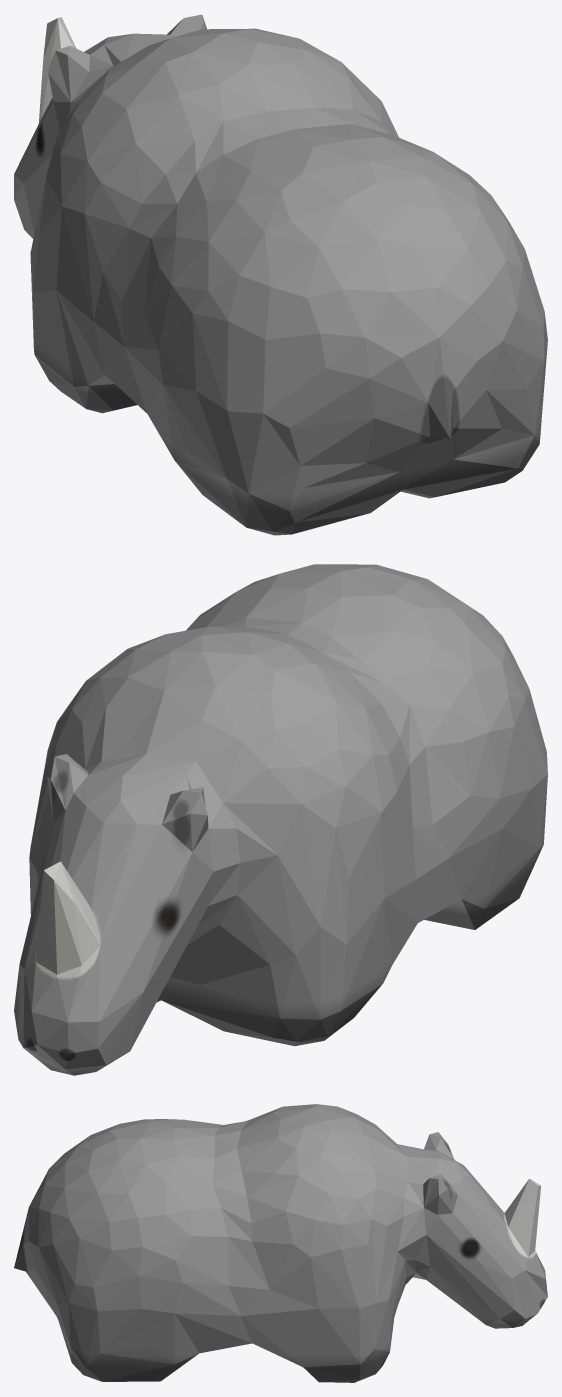
File: animal_rhino_blob.obj
3 views of the same model, one above another, from view 1: azimuth 30°, elevation 25°; view 2: azimuth 150°, elevation 25°; view 3: azimuth 270°, elevation 25° (orthographic). The views are drawn at different scales.
Visible parts, largest first — view 1: animal_rhino_blob; view 2: animal_rhino_blob; view 3: animal_rhino_blob.
Part boxes in pixels (x1=…): animal_rhino_blob: x1=14, y1=14, x2=547, y2=535; animal_rhino_blob: x1=14, y1=564, x2=547, y2=1075; animal_rhino_blob: x1=14, y1=1104, x2=547, y2=1382.
Size of the model in its own units: 1.18 by 1.15 by 2.42.
